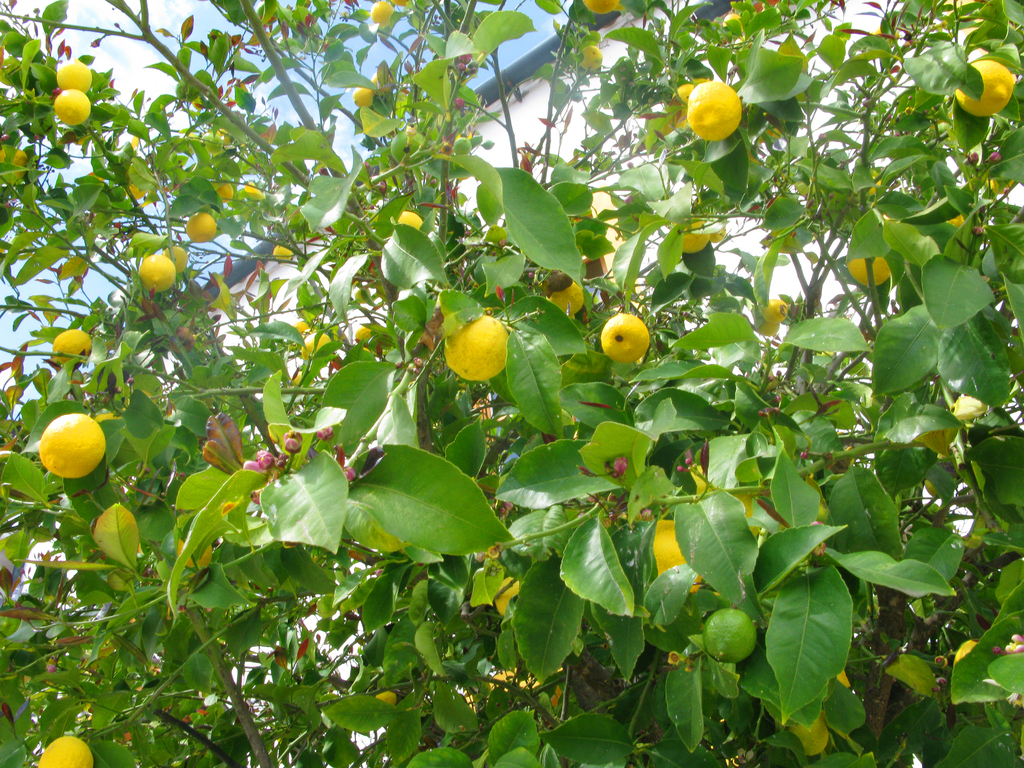Ripe: (23, 405, 106, 480), (426, 311, 501, 390), (688, 77, 742, 148), (950, 53, 1009, 116), (596, 318, 652, 367), (49, 84, 92, 131), (44, 732, 95, 767), (52, 52, 89, 92), (61, 326, 97, 367), (144, 256, 179, 298), (204, 175, 238, 204), (580, 0, 619, 17), (176, 219, 198, 248), (371, 2, 390, 29), (175, 230, 187, 264)
